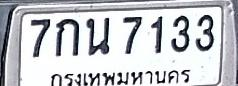1: (150, 15, 163, 54)
3: (170, 15, 190, 52), (195, 14, 214, 51)
7: (30, 18, 50, 58), (122, 16, 142, 54)
A01: (55, 18, 79, 56)
A25: (86, 17, 110, 56)
BKK: (46, 66, 193, 86)
